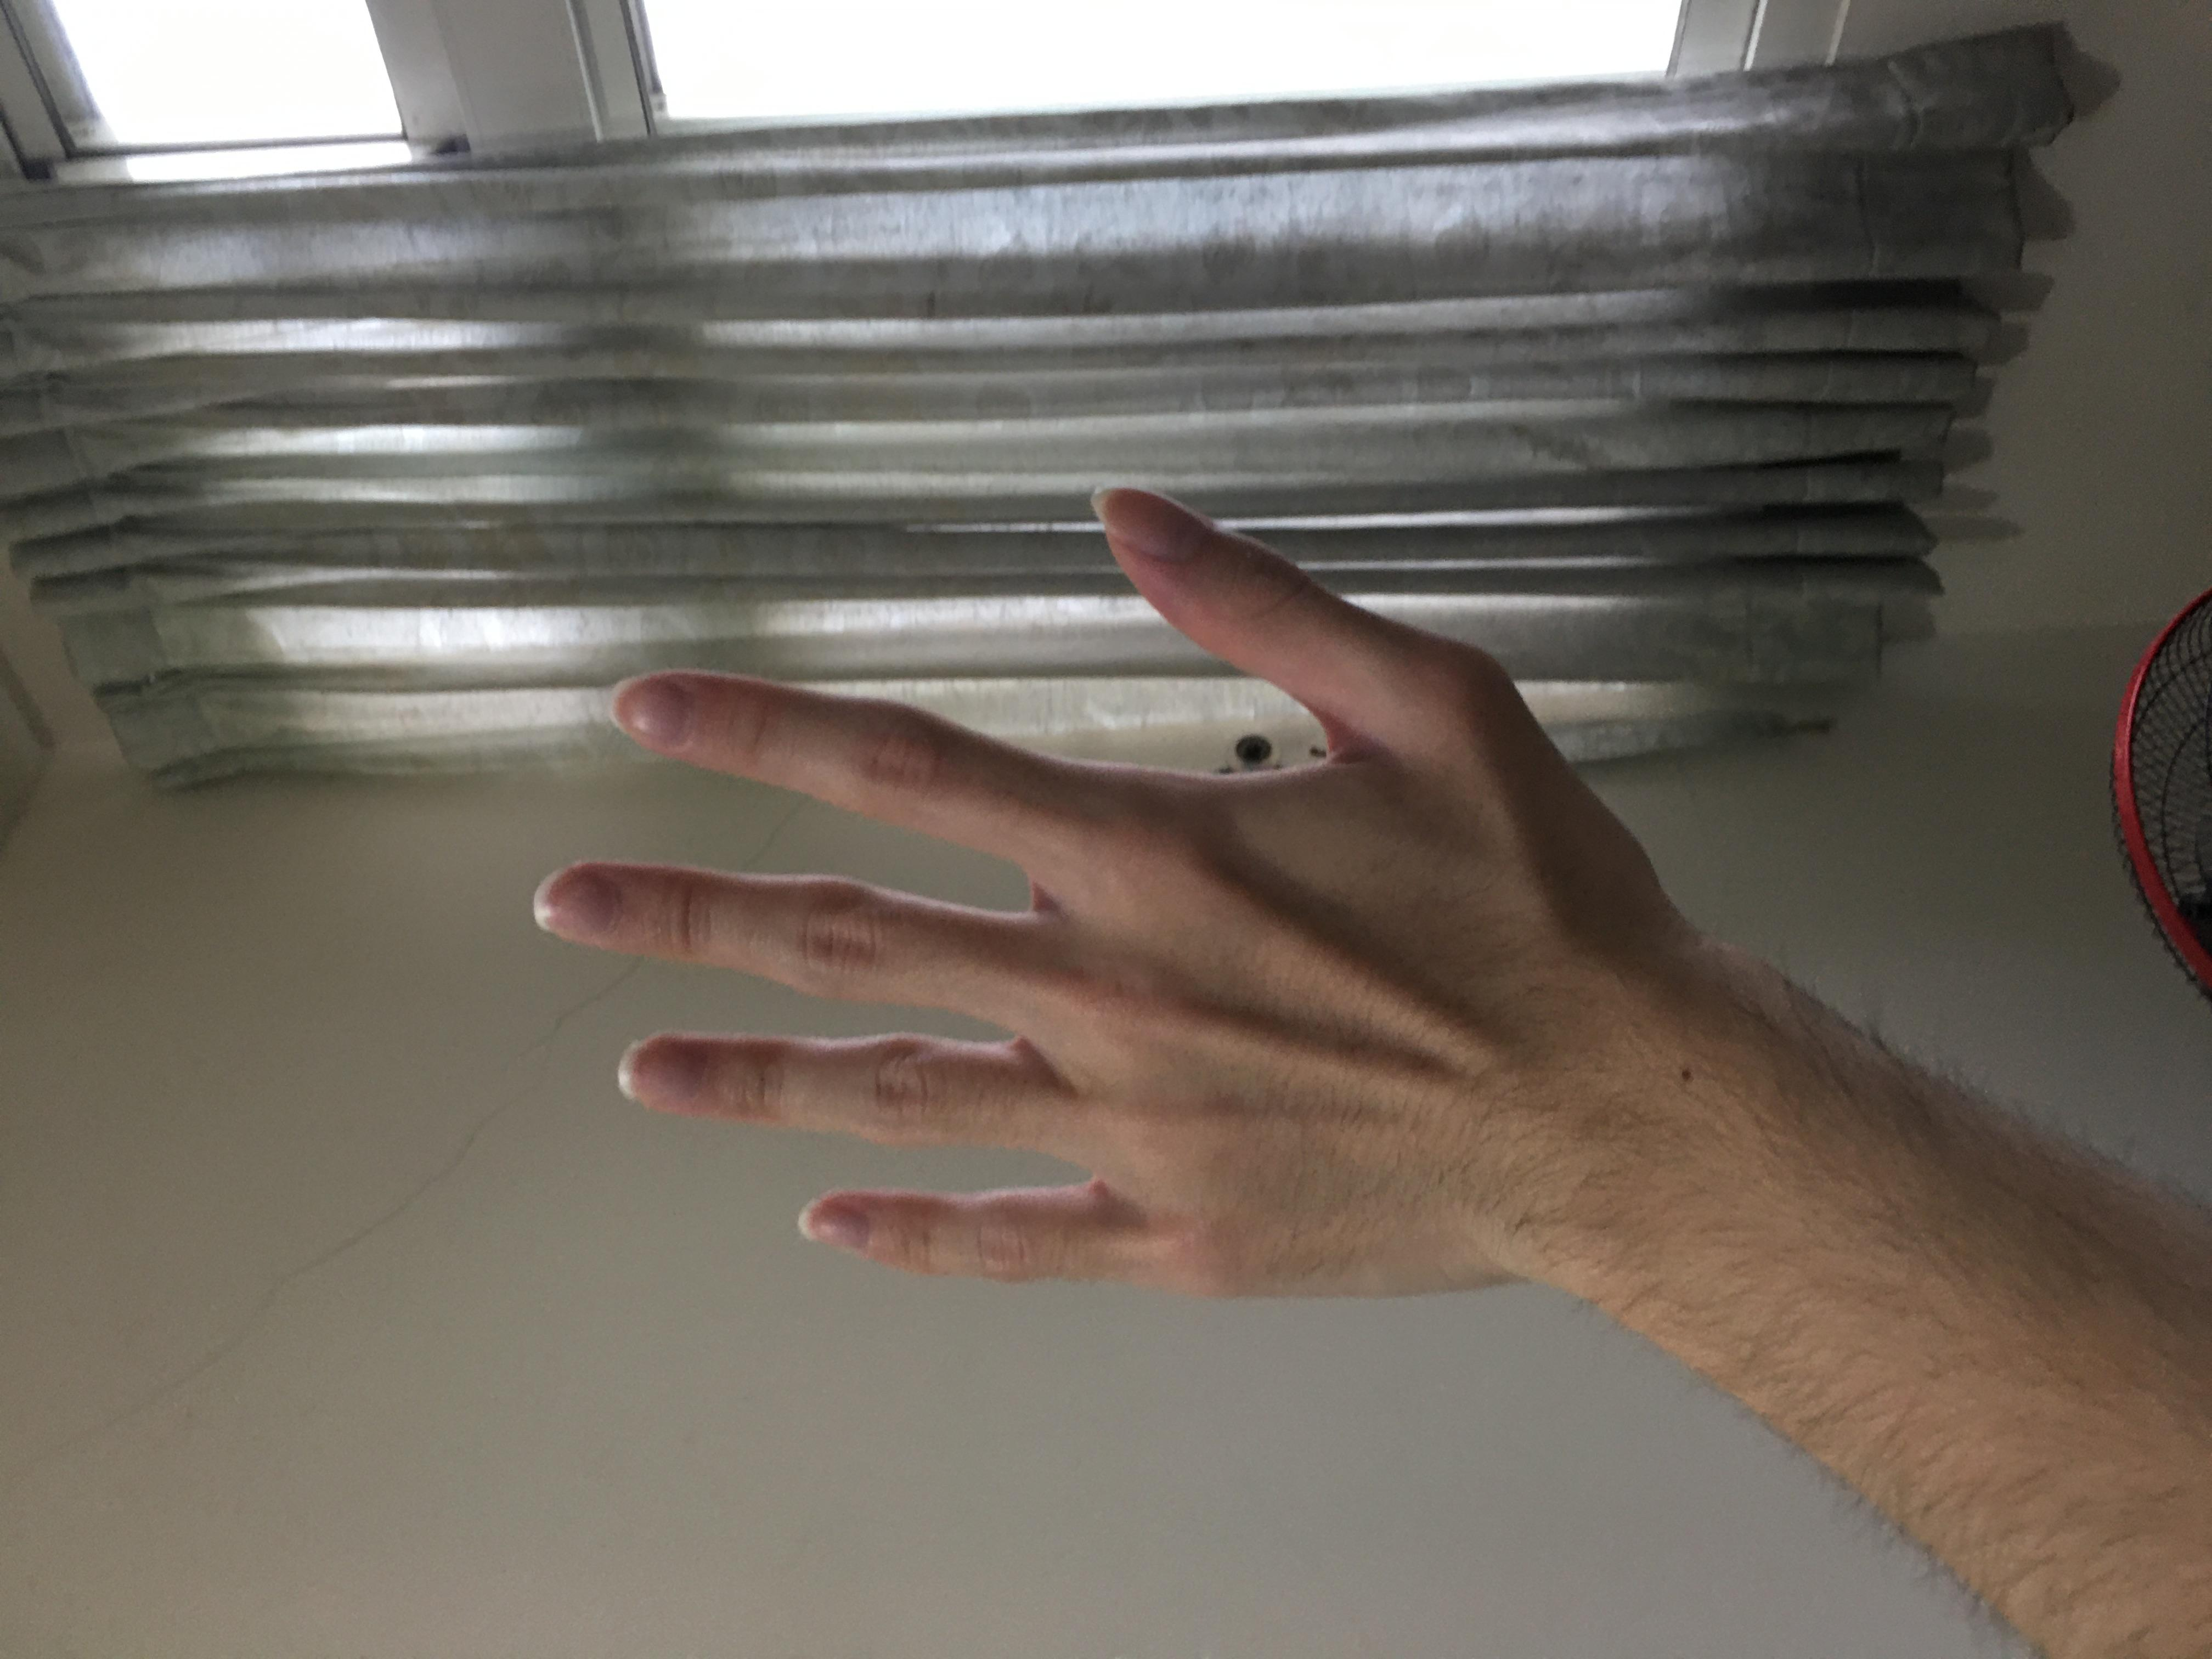hand: (484, 396, 1584, 1207)
